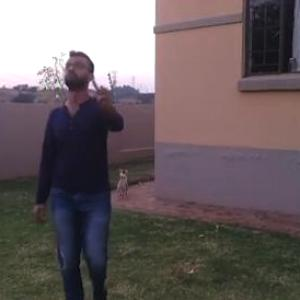takeoff-hand: (87, 73, 120, 105)
